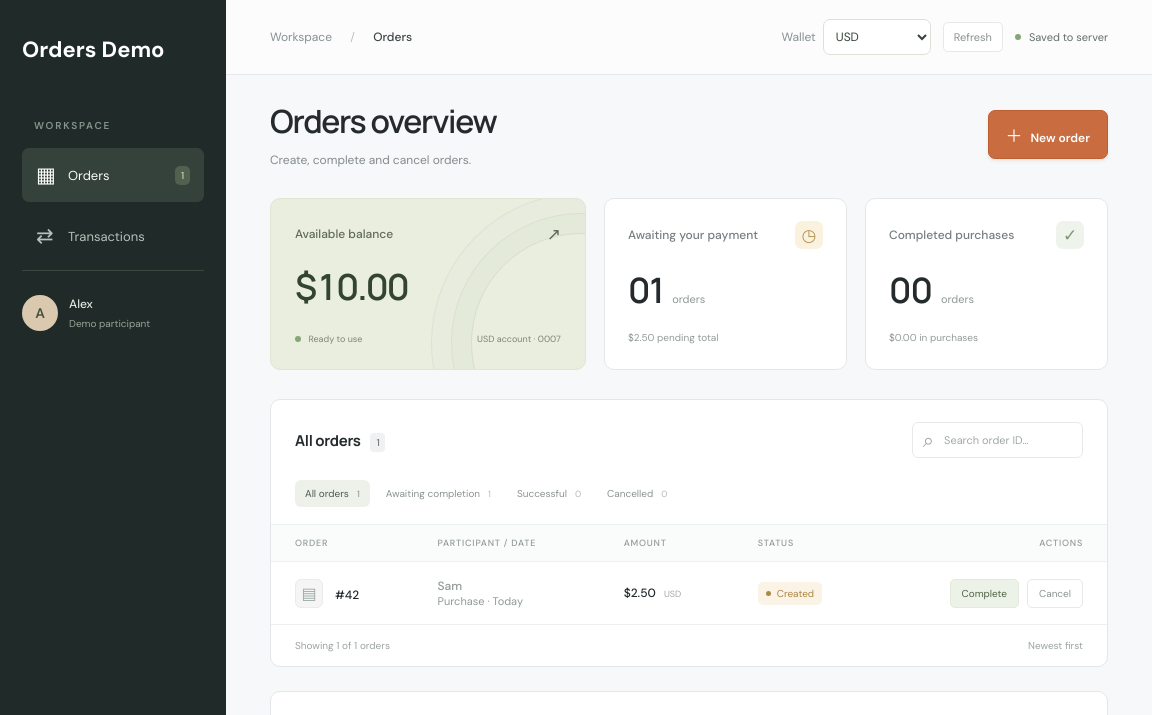
Test: OrdersDashboard › disables Complete while its mutation is pending
The width and height of the screenshot is (1152, 715).
Click the button "Complete" at x=984, y=593, box [950, 579, 1019, 608]
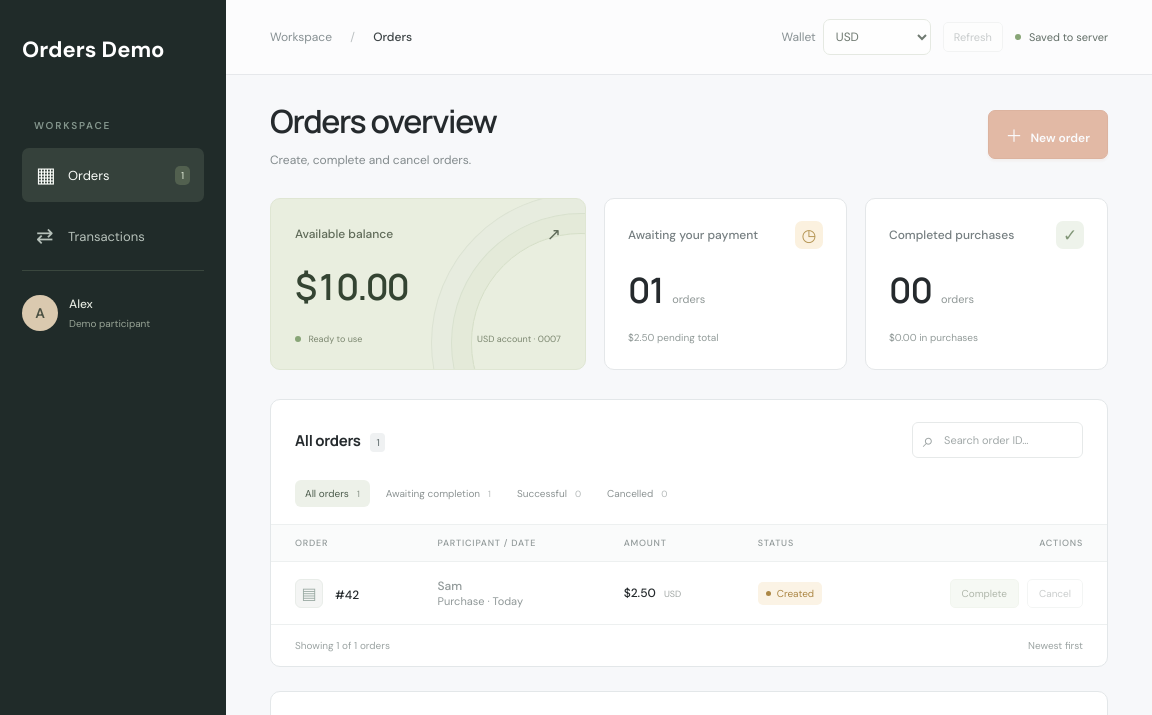
Expected: the button "Complete" is disabled
Click the button "Complete" at x=984, y=593, box [950, 579, 1019, 608]
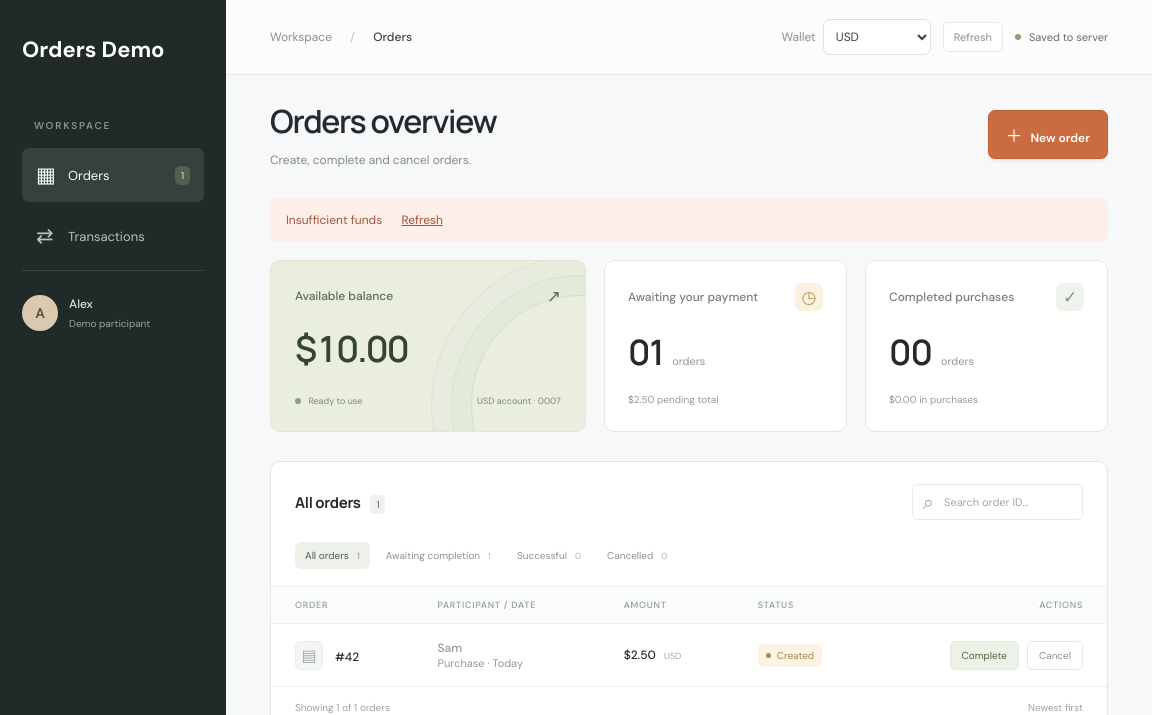
Expected: the message "Insufficient funds Refresh" is shown, [270, 198, 1108, 242]
Expected: the button "Complete" is enabled, [950, 641, 1019, 670]
